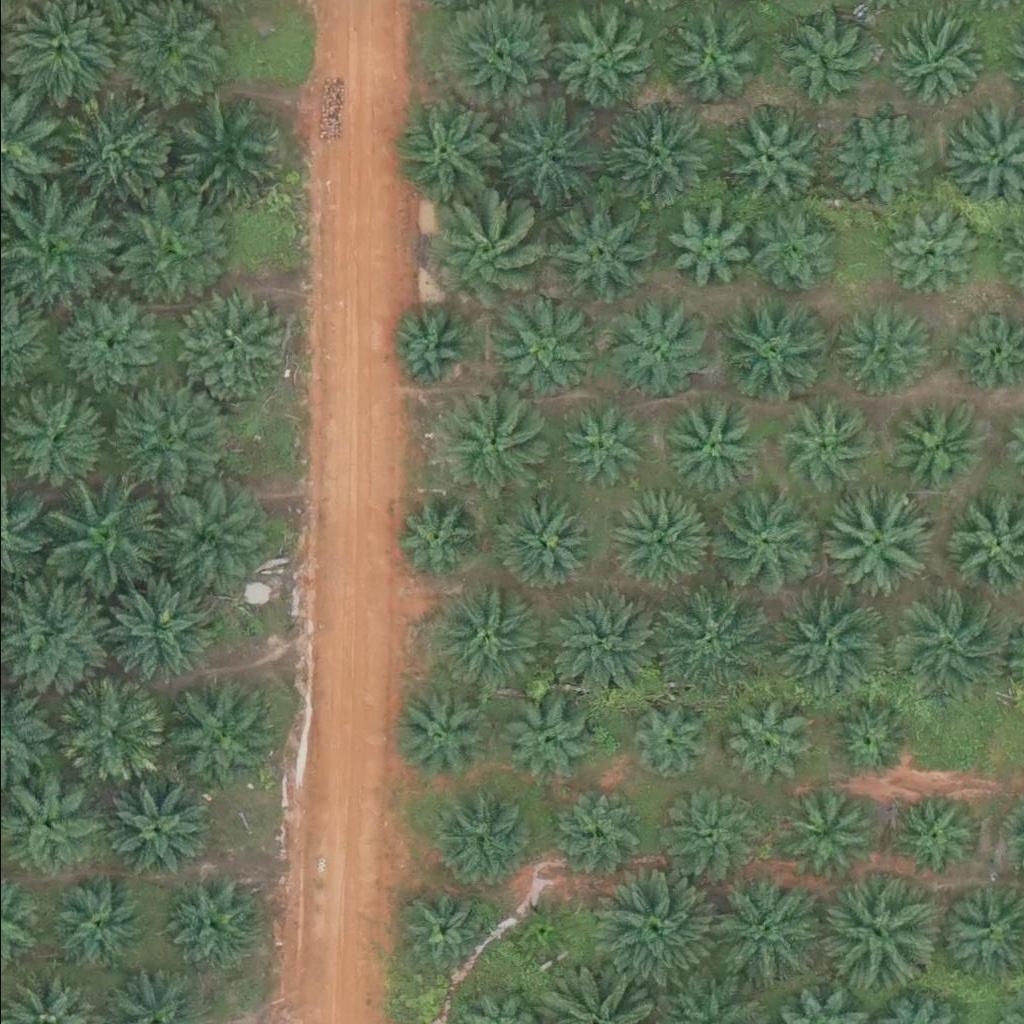Kelapa_Sawit: (417, 193, 543, 318), (164, 679, 278, 792), (100, 577, 214, 690), (769, 591, 883, 704), (51, 675, 164, 788), (50, 483, 163, 596), (169, 290, 282, 403), (108, 188, 221, 301), (828, 877, 941, 990), (814, 481, 927, 594), (593, 97, 706, 210), (492, 97, 605, 210), (385, 93, 498, 206), (111, 387, 225, 499), (428, 579, 542, 691), (149, 481, 262, 593), (172, 100, 285, 212), (61, 93, 174, 205), (707, 876, 820, 988), (596, 873, 709, 985), (891, 594, 1004, 706), (651, 582, 764, 694), (539, 590, 652, 702), (707, 484, 820, 596), (433, 394, 546, 506), (541, 193, 654, 305), (437, 2, 550, 114), (159, 874, 260, 974), (101, 777, 202, 877), (8, 389, 109, 489), (67, 291, 168, 391), (428, 790, 529, 890), (384, 684, 485, 784), (493, 495, 594, 595), (885, 398, 986, 498), (768, 400, 869, 500), (657, 396, 758, 496), (836, 301, 937, 401), (717, 300, 818, 400), (608, 297, 709, 397), (712, 113, 813, 213), (879, 6, 980, 106), (779, 11, 880, 111), (547, 7, 648, 107), (46, 875, 146, 975), (611, 494, 711, 594), (486, 302, 586, 402), (830, 105, 930, 205), (666, 791, 754, 879), (715, 700, 803, 788), (621, 696, 709, 784), (383, 496, 471, 584), (399, 888, 488, 975), (884, 792, 973, 879), (554, 408, 643, 495), (770, 796, 858, 883), (550, 789, 638, 876), (818, 695, 906, 782), (504, 696, 592, 783), (383, 303, 471, 390), (888, 207, 976, 294), (747, 207, 835, 294), (659, 204, 747, 291), (664, 15, 752, 102), (507, 904, 570, 967)
